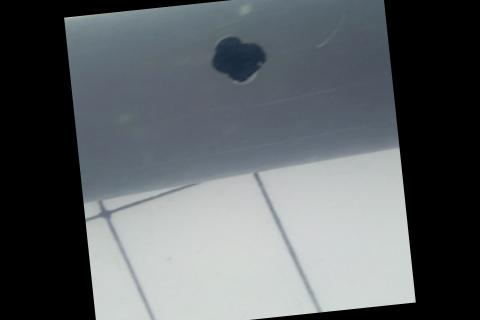kebocoran: (204, 29, 273, 87)
